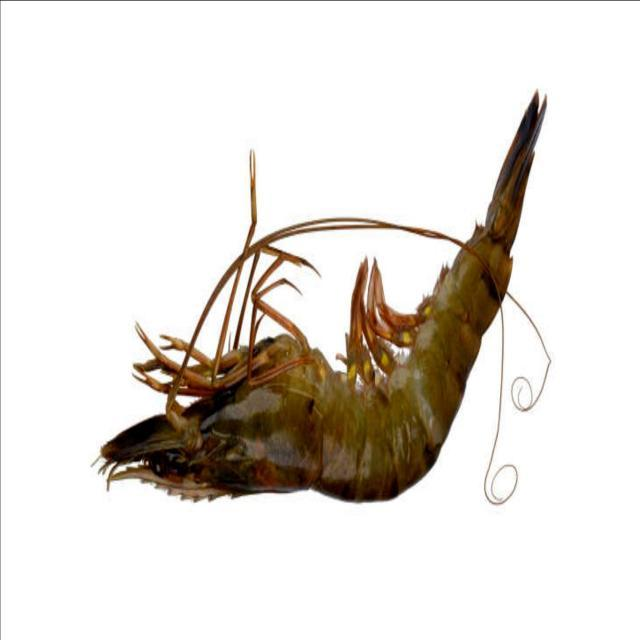shrimp: (99, 95, 546, 501)
